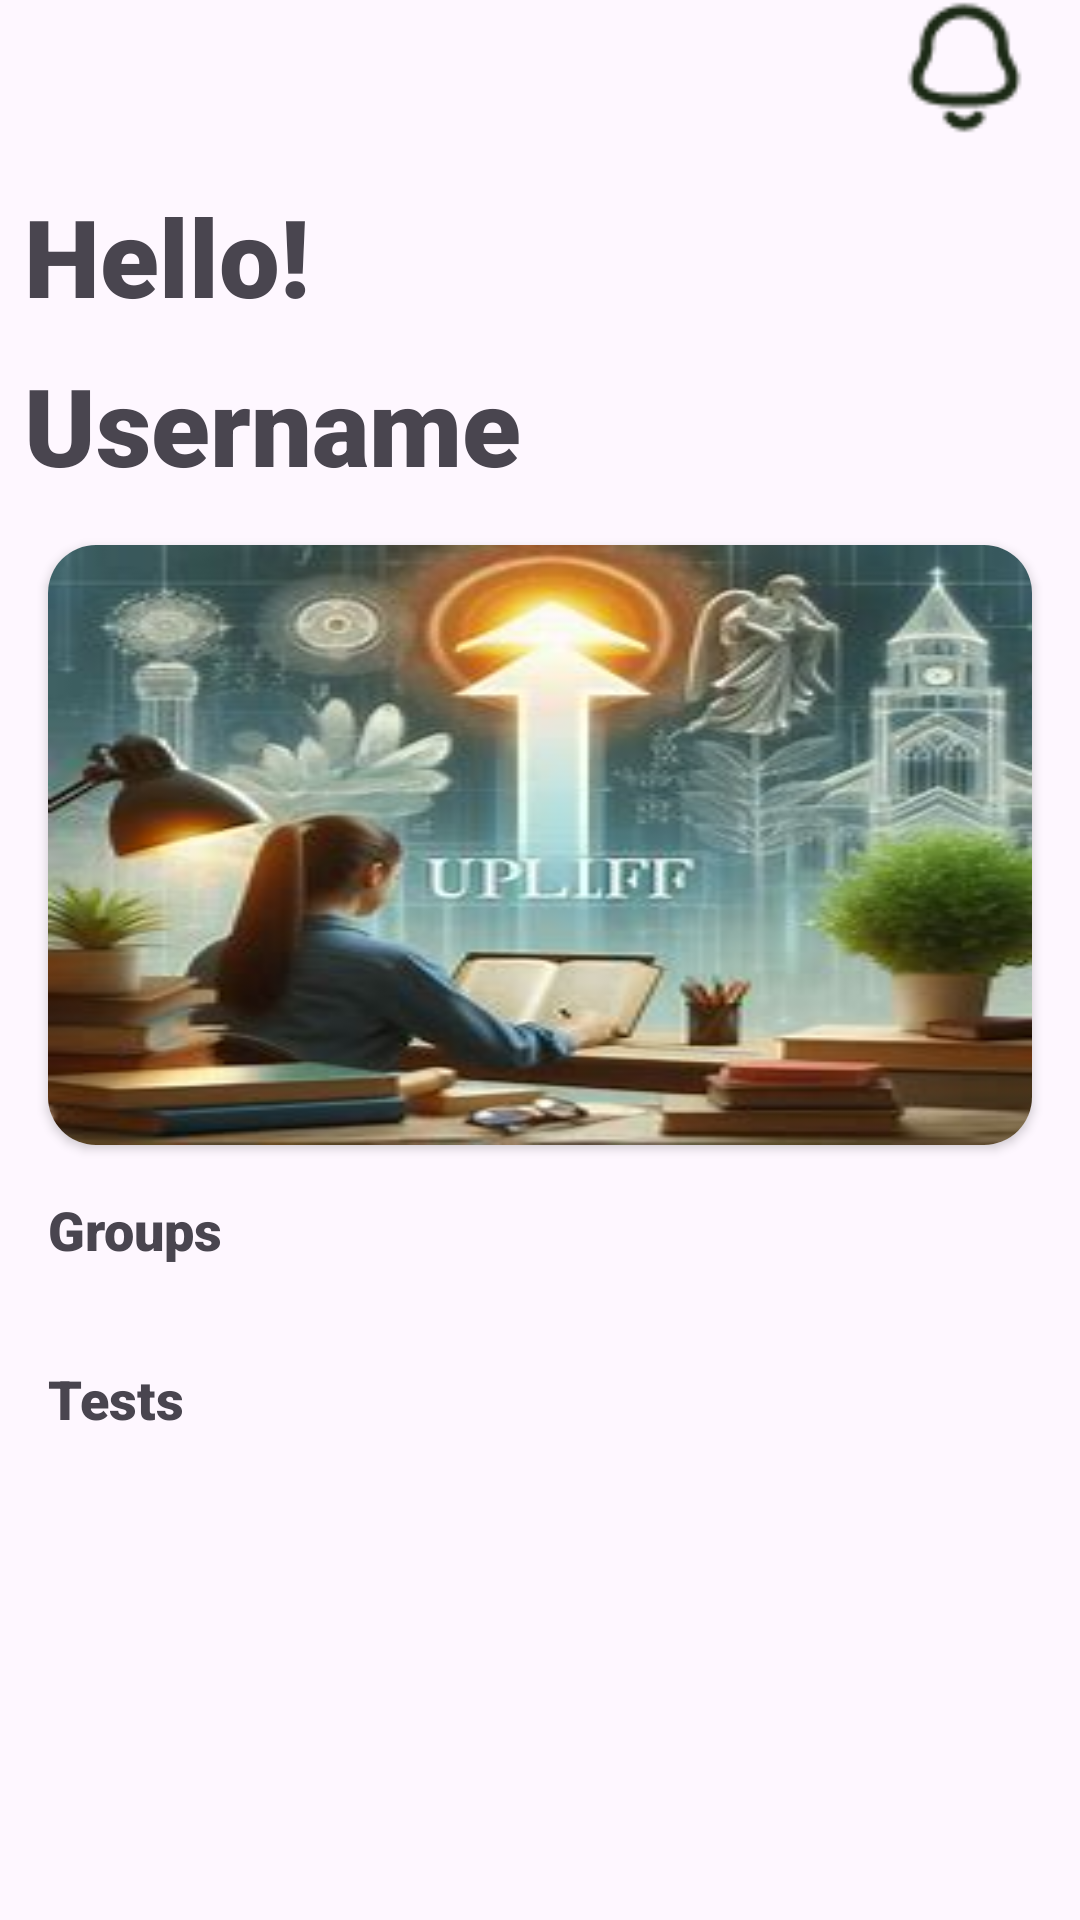

Icon bounding boxes for this 1080px×1920px phone screenshot, format (x1, y1, x2, y2):
notification: (908, 3, 1021, 132)
